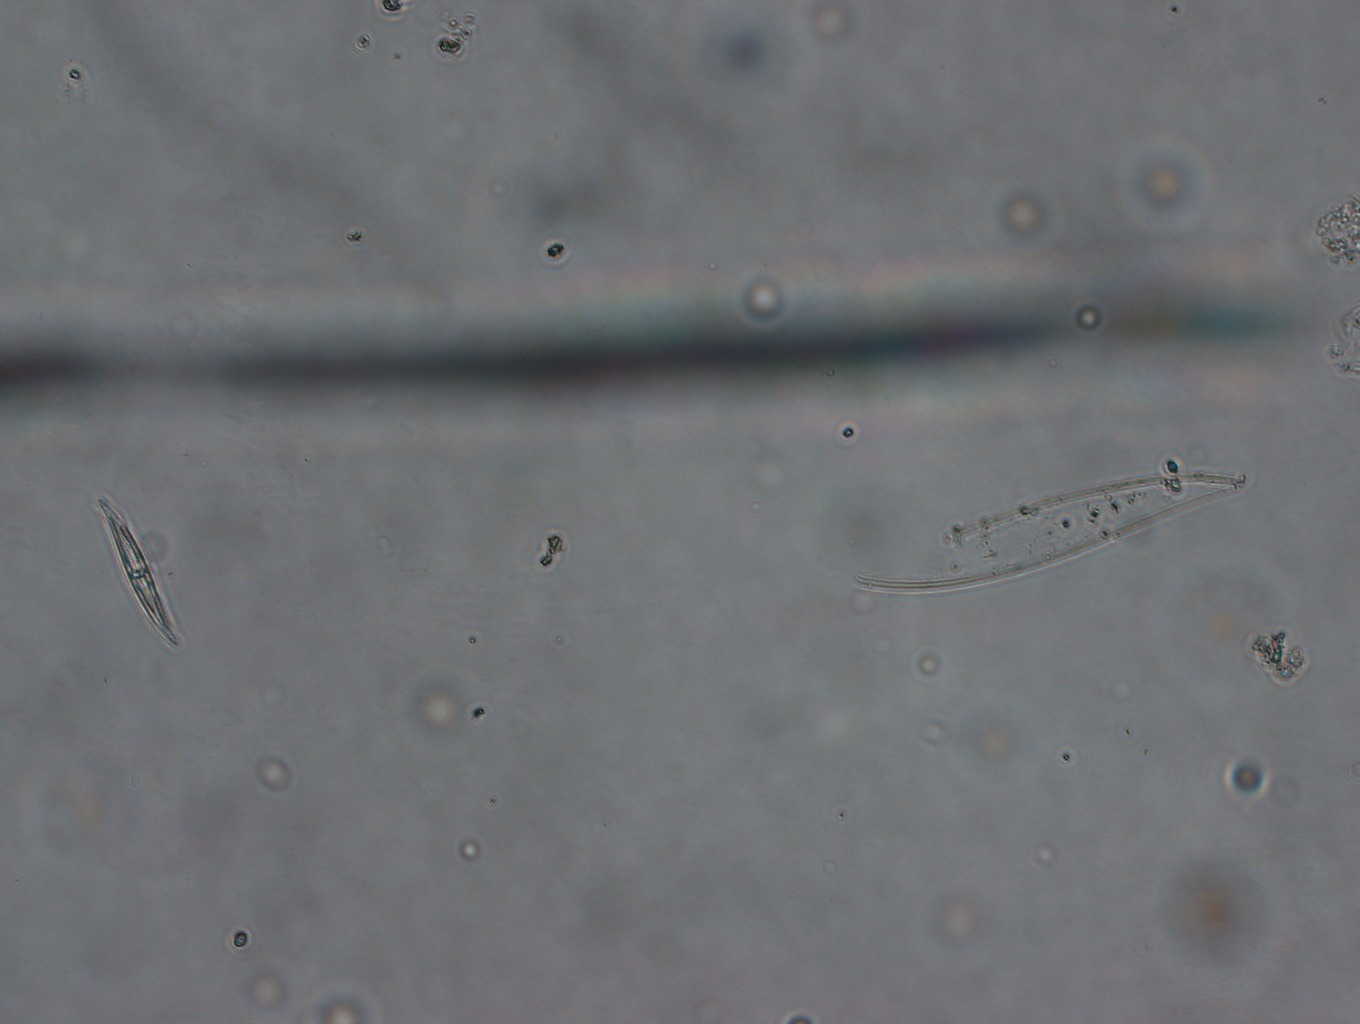pleurosigma pelagicum: (89, 496, 185, 649)
